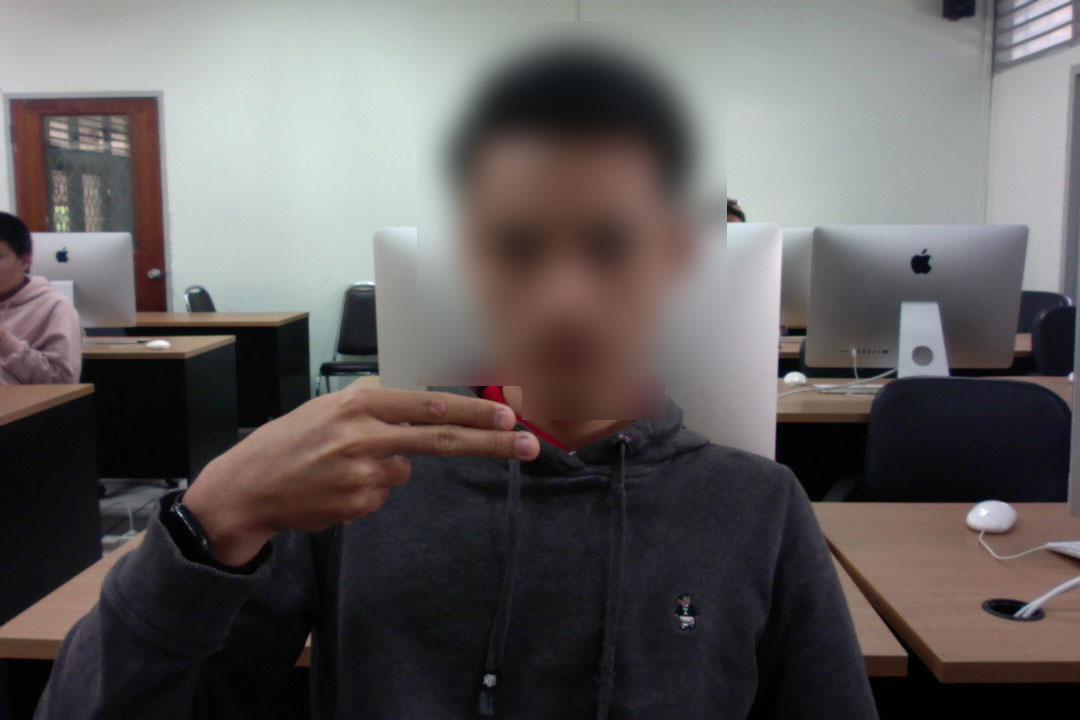hor: (178, 378, 549, 540)
